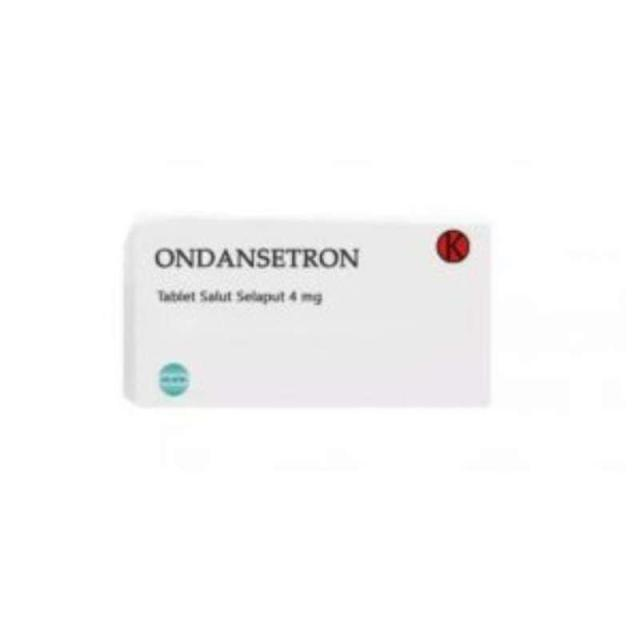drug-name: (152, 242, 360, 272)
